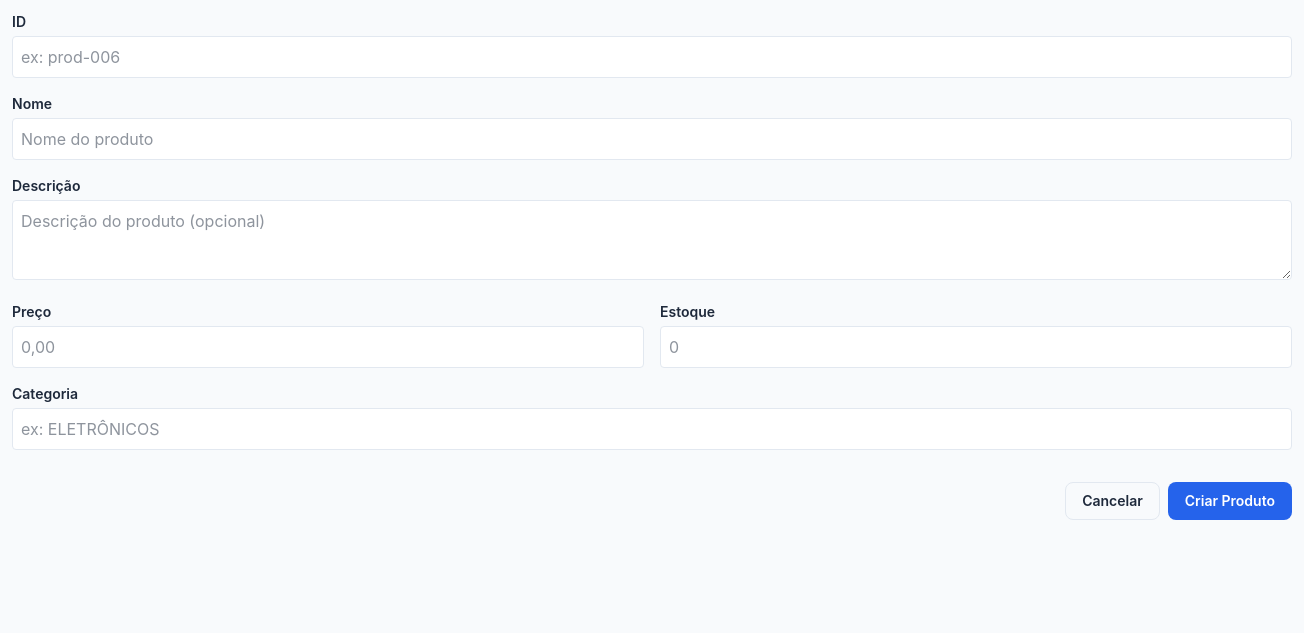
it: ProductForm › validação › deve exibir erro quando o estoque está vazio
This screenshot has width=1304, height=633.
Step 1. Click the button "Criar Produto" → (1230, 501), box [1168,482,1292,520]
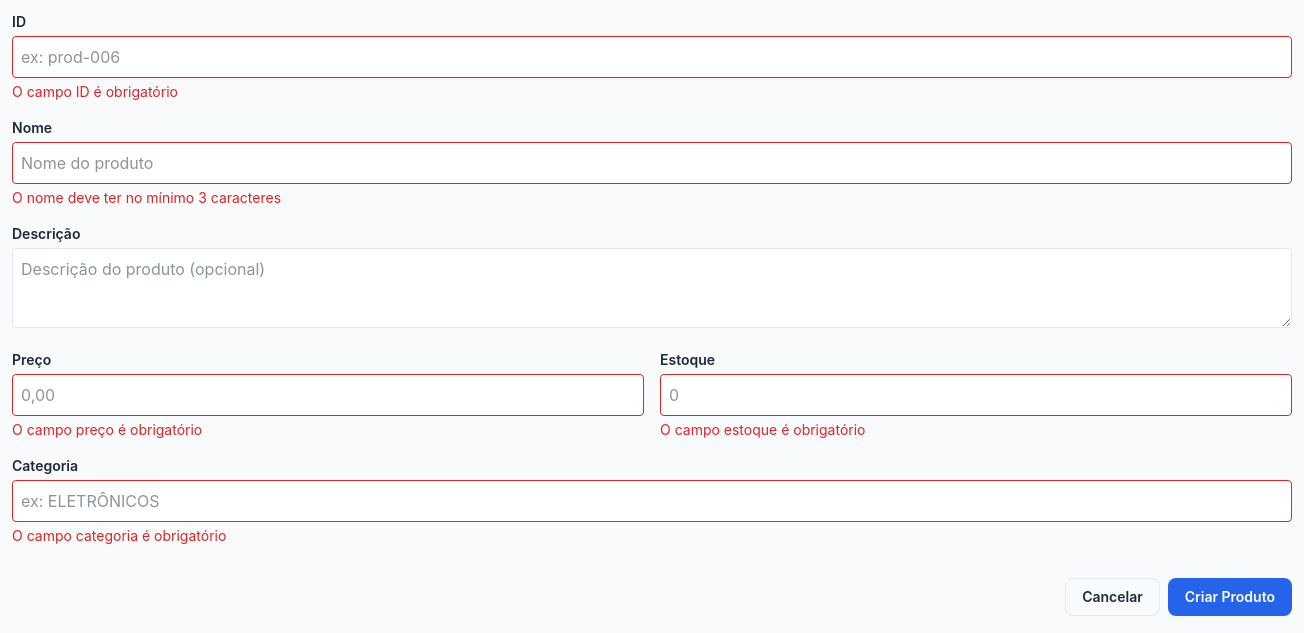
Check: the text "O campo estoque é obrigatório" is shown, box [660,421,866,438]
